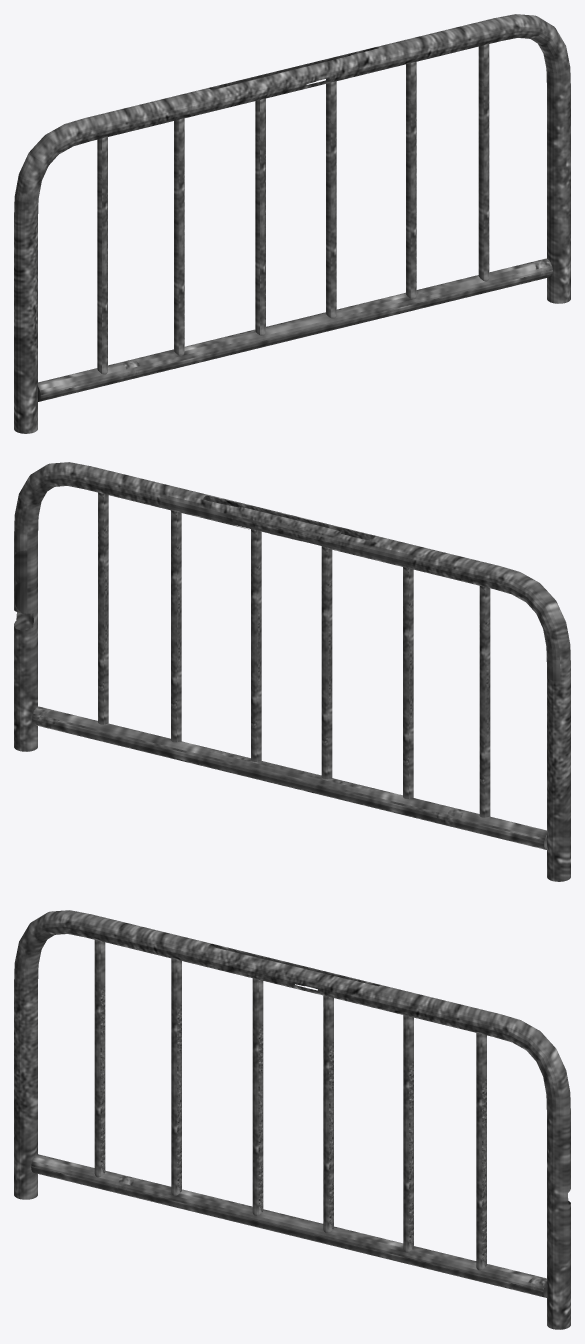
File: valla_con_text.obj
3 views of the same model, one above another, from view 1: azimuth 30°, elevation 25°; view 2: azimuth 150°, elevation 25°; view 3: azimuth 330°, elevation 25° (orthographic).
Parts seen in each view (by area): view 1: valla_mud:polySurface1_0, valla_mud:polySurface2_0, valla_mud:polySurface6_0, valla_mud:polySurface10_0, valla_mud:polySurface8_0, valla_mud:polySurface9_0, valla_mud:polySurface7_0, valla_mud:polySurface5_0; view 2: valla_mud:polySurface1_0, valla_mud:polySurface2_0, valla_mud:polySurface9_0, valla_mud:polySurface5_0, valla_mud:polySurface10_0, valla_mud:polySurface7_0, valla_mud:polySurface6_0, valla_mud:polySurface8_0; view 3: valla_mud:polySurface1_0, valla_mud:polySurface2_0, valla_mud:polySurface9_0, valla_mud:polySurface5_0, valla_mud:polySurface7_0, valla_mud:polySurface8_0, valla_mud:polySurface10_0, valla_mud:polySurface6_0.
Boxes of the visible parts, x1=… form: valla_mud:polySurface1_0: x1=14, y1=14, x2=570, y2=433; valla_mud:polySurface2_0: x1=38, y1=258, x2=552, y2=401; valla_mud:polySurface6_0: x1=478, y1=44, x2=489, y2=281; valla_mud:polySurface10_0: x1=326, y1=78, x2=336, y2=318; valla_mud:polySurface8_0: x1=174, y1=118, x2=184, y2=355; valla_mud:polySurface9_0: x1=255, y1=98, x2=265, y2=335; valla_mud:polySurface7_0: x1=406, y1=62, x2=416, y2=299; valla_mud:polySurface5_0: x1=97, y1=137, x2=107, y2=374; valla_mud:polySurface1_0: x1=14, y1=462, x2=570, y2=881; valla_mud:polySurface2_0: x1=32, y1=706, x2=546, y2=849; valla_mud:polySurface9_0: x1=321, y1=546, x2=332, y2=779; valla_mud:polySurface5_0: x1=479, y1=586, x2=490, y2=817; valla_mud:polySurface10_0: x1=251, y1=529, x2=261, y2=761; valla_mud:polySurface7_0: x1=171, y1=510, x2=181, y2=742; valla_mud:polySurface6_0: x1=98, y1=492, x2=108, y2=724; valla_mud:polySurface8_0: x1=403, y1=567, x2=413, y2=798; valla_mud:polySurface1_0: x1=14, y1=910, x2=570, y2=1329; valla_mud:polySurface2_0: x1=31, y1=1154, x2=546, y2=1297; valla_mud:polySurface9_0: x1=252, y1=978, x2=263, y2=1215; valla_mud:polySurface5_0: x1=94, y1=940, x2=105, y2=1177; valla_mud:polySurface7_0: x1=403, y1=1015, x2=413, y2=1252; valla_mud:polySurface8_0: x1=171, y1=958, x2=181, y2=1195; valla_mud:polySurface10_0: x1=323, y1=995, x2=333, y2=1232; valla_mud:polySurface6_0: x1=476, y1=1033, x2=486, y2=1270.
Size of the model in its own units: 8.74 by 4.45 by 0.3301.
1 material, 1 textured.
